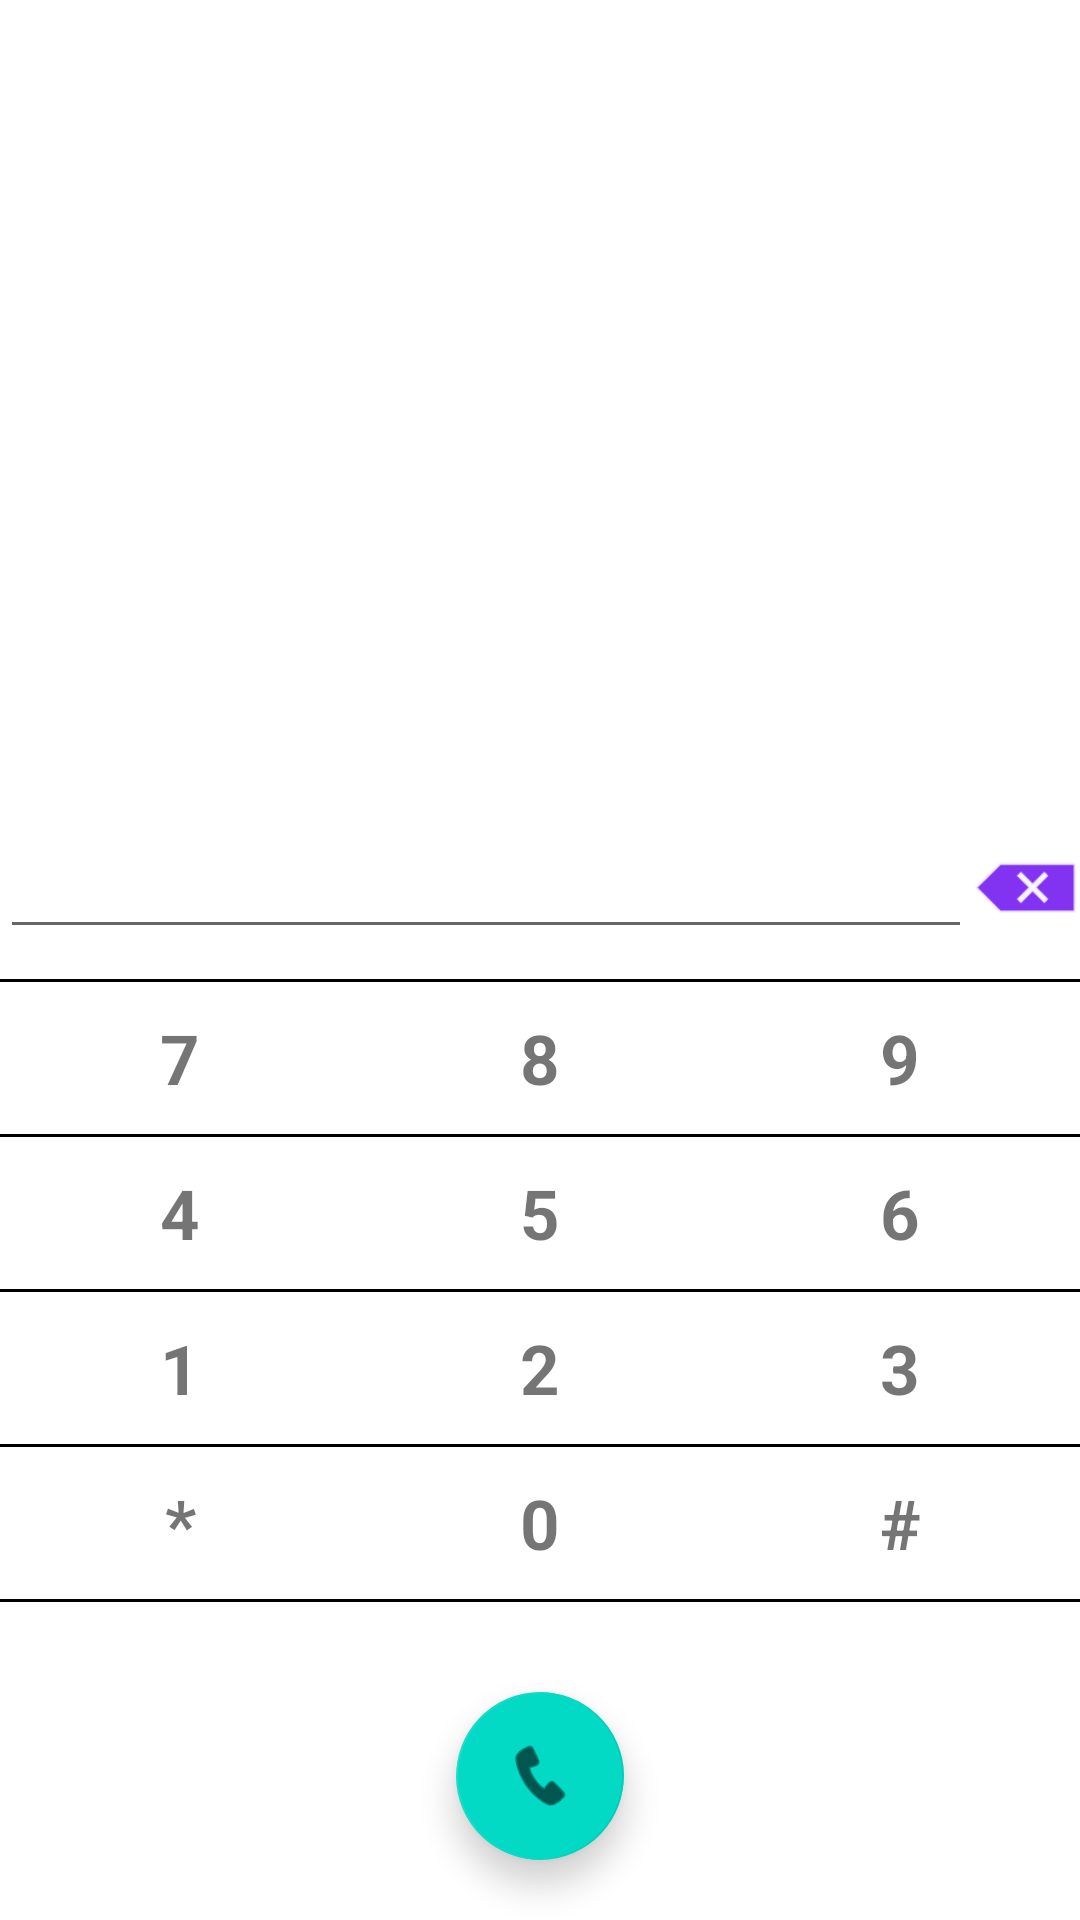

Named icons in this screenshot (1080*1920) and their bounding boxes, BBox(x1, y1, x2, y2):
delete: BBox(977, 864, 1075, 912)
